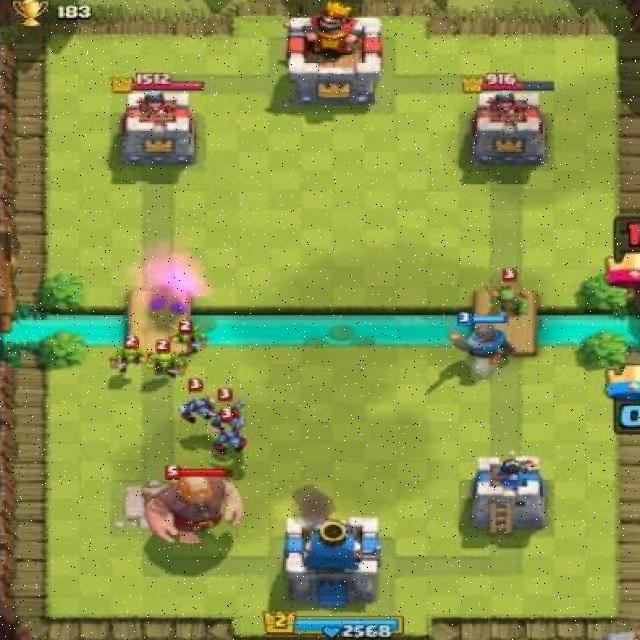Enemy-Giant: (140, 463, 246, 549)
Enemy-Goblin: (162, 316, 211, 358), (106, 335, 153, 378), (145, 340, 188, 381)
Enemy-Minion: (176, 375, 220, 428), (207, 388, 249, 435), (210, 406, 249, 456)
Enemy-SpearGoblin: (482, 264, 538, 322)
Player-Knight: (440, 308, 524, 368)
